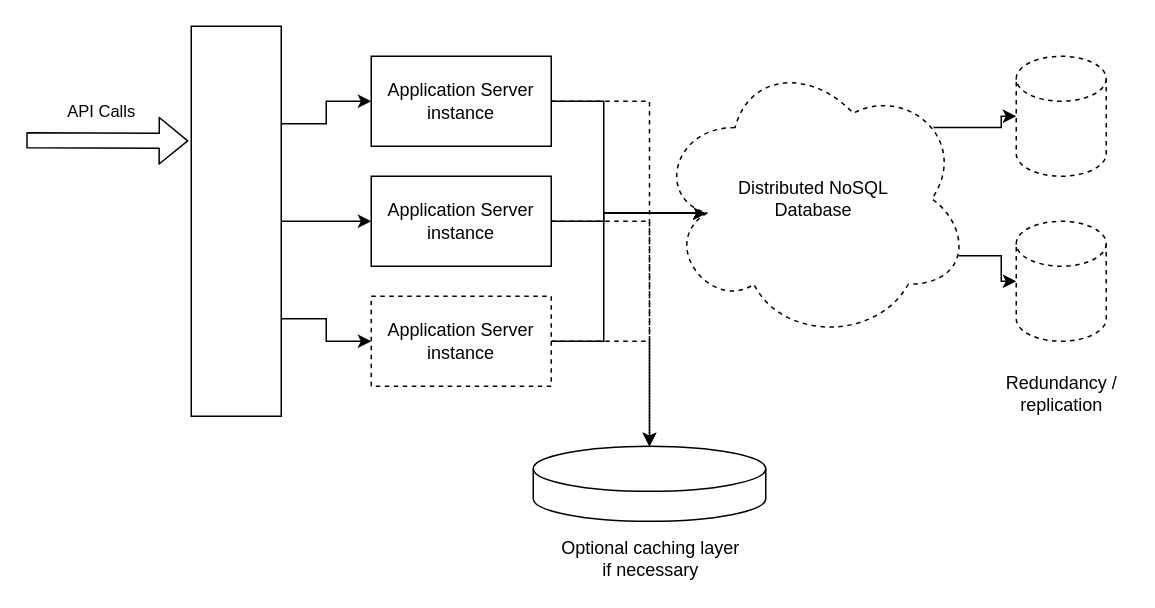
Image size: 1155x608. Some labels were removed from this diagram. The shapes that lost their labels are listed below. From the top down, each one's box as (x1, y1, x2, y2) in pixels, then its label:
(190, 25, 281, 416): Load Balancer
(532, 445, 766, 521): Cache layer
